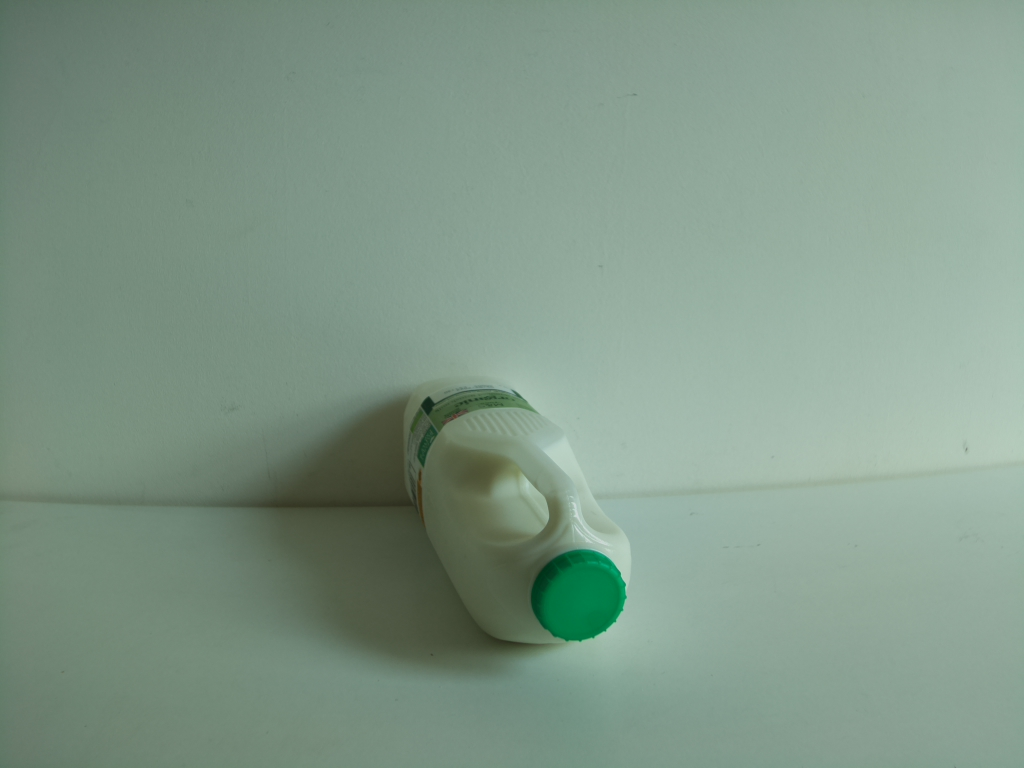milk: (396, 370, 638, 652)
